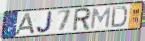7: (57, 9, 72, 33)
A: (13, 12, 36, 36)
D: (110, 6, 128, 29)
J: (35, 10, 54, 34)
M: (89, 7, 112, 30)
R: (72, 7, 92, 33)
